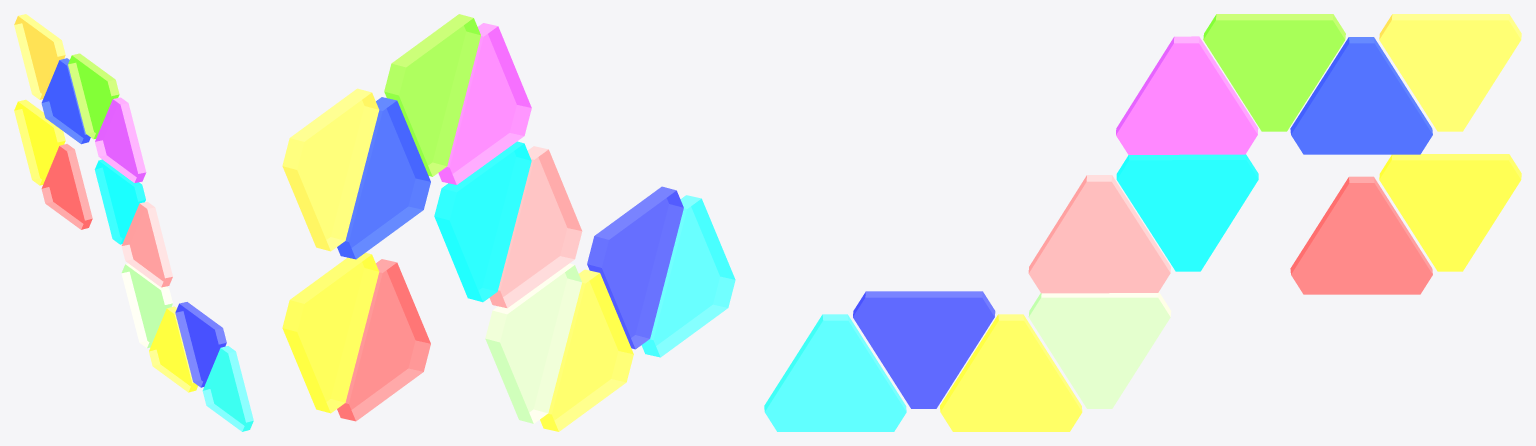
Rendered from yeelight_led.glb.
3 views of the same model, side by side, from view 1: azimuth 30°, elevation 25°; view 2: azimuth 150°, elevation 25°; view 3: azimuth 270°, elevation 25° (orthographic). The views are drawn at different scales.
Visible parts, largest first — view 1: Yeelight_Led_05, Yeelight_Led_07, Yeelight_Led_01, Yeelight_Led_11, Yeelight_Led_10, Yeelight_Led_02, Yeelight_Led_08, Yeelight_Led_12, Yeelight_Led_04, Yeelight_Led_06, Yeelight_Led_03, Yeelight_Led_09; view 2: Yeelight_Led_10, Yeelight_Led_12, Yeelight_Led_06, Yeelight_Led_04, Yeelight_Led_02, Yeelight_Led_08, Yeelight_Led_03, Yeelight_Led_11, Yeelight_Led_09, Yeelight_Led_01, Yeelight_Led_07, Yeelight_Led_05; view 3: Yeelight_Led_05, Yeelight_Led_07, Yeelight_Led_11, Yeelight_Led_09, Yeelight_Led_02, Yeelight_Led_01, Yeelight_Led_03, Yeelight_Led_10, Yeelight_Led_08, Yeelight_Led_12, Yeelight_Led_06, Yeelight_Led_04.
Part boxes in pixels (x1=…): Yeelight_Led_05: x1=121, y1=201, x2=172, y2=287; Yeelight_Led_07: x1=95, y1=97, x2=146, y2=182; Yeelight_Led_01: x1=202, y1=346, x2=253, y2=431; Yeelight_Led_11: x1=41, y1=144, x2=92, y2=229; Yeelight_Led_10: x1=14, y1=14, x2=65, y2=99; Yeelight_Led_02: x1=175, y1=302, x2=226, y2=387; Yeelight_Led_08: x1=68, y1=53, x2=119, y2=139; Yeelight_Led_12: x1=14, y1=99, x2=65, y2=185; Yeelight_Led_04: x1=121, y1=263, x2=172, y2=348; Yeelight_Led_06: x1=94, y1=159, x2=145, y2=244; Yeelight_Led_03: x1=149, y1=306, x2=197, y2=392; Yeelight_Led_09: x1=41, y1=58, x2=90, y2=144; Yeelight_Led_10: x1=282, y1=88, x2=379, y2=251; Yeelight_Led_12: x1=282, y1=252, x2=379, y2=413; Yeelight_Led_06: x1=434, y1=141, x2=531, y2=302; Yeelight_Led_04: x1=485, y1=263, x2=581, y2=423; Yeelight_Led_02: x1=587, y1=186, x2=683, y2=349; Yeelight_Led_08: x1=384, y1=14, x2=480, y2=176; Yeelight_Led_03: x1=540, y1=269, x2=633, y2=431; Yeelight_Led_11: x1=337, y1=259, x2=430, y2=421; Yeelight_Led_09: x1=337, y1=97, x2=430, y2=259; Yeelight_Led_01: x1=641, y1=195, x2=735, y2=357; Yeelight_Led_07: x1=438, y1=23, x2=531, y2=184; Yeelight_Led_05: x1=489, y1=146, x2=582, y2=308; Yeelight_Led_05: x1=1028, y1=175, x2=1170, y2=293; Yeelight_Led_07: x1=1116, y1=36, x2=1258, y2=154; Yeelight_Led_11: x1=1290, y1=176, x2=1432, y2=294; Yeelight_Led_09: x1=1290, y1=37, x2=1432, y2=154; Yeelight_Led_02: x1=853, y1=291, x2=995, y2=408; Yeelight_Led_01: x1=764, y1=314, x2=906, y2=431; Yeelight_Led_03: x1=940, y1=314, x2=1082, y2=431; Yeelight_Led_10: x1=1379, y1=14, x2=1521, y2=131; Yeelight_Led_08: x1=1203, y1=14, x2=1345, y2=131; Yeelight_Led_12: x1=1379, y1=154, x2=1521, y2=271; Yeelight_Led_06: x1=1116, y1=154, x2=1258, y2=271; Yeelight_Led_04: x1=1028, y1=292, x2=1171, y2=408.
Size of the model in its own units: 0.00204 by 0.0613 by 0.1022.
